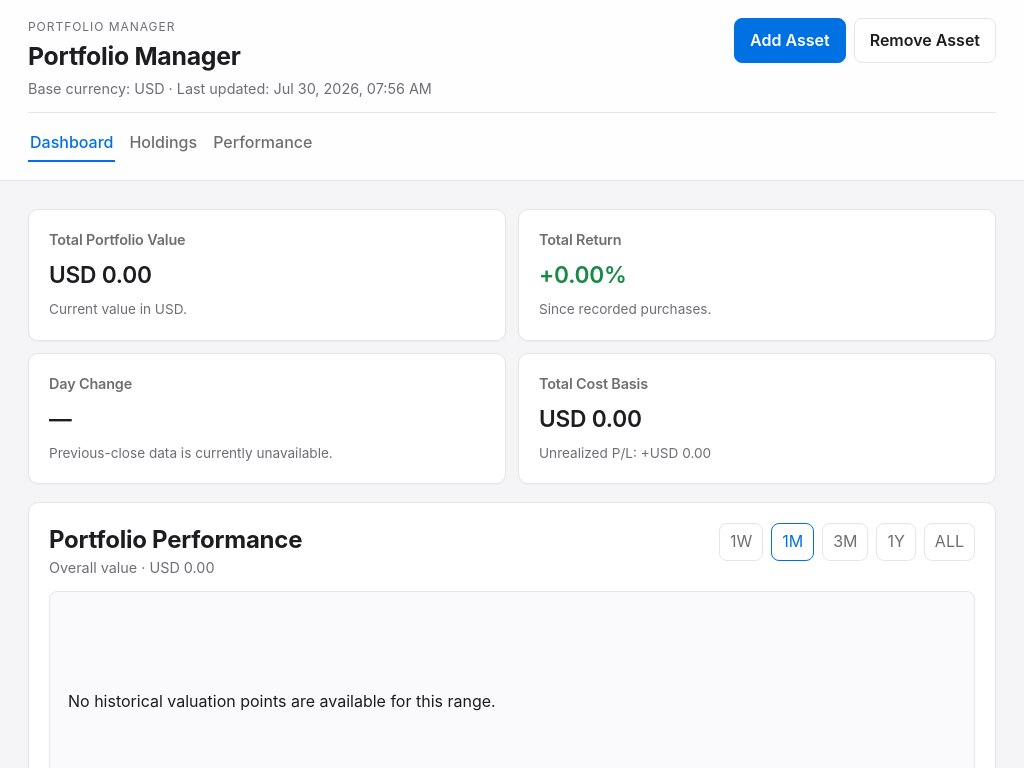
Test case: Portfolio Manager frontend › shows explicit USD references in summary and native-price labels in positions
Expected: the text "Base currency: USD · Last updated: Jul 30, 2026, 07:56 AM" is shown, [28, 79, 432, 100]
Click the link "Holdings". click: click(163, 142)
box: [130, 132, 197, 152]
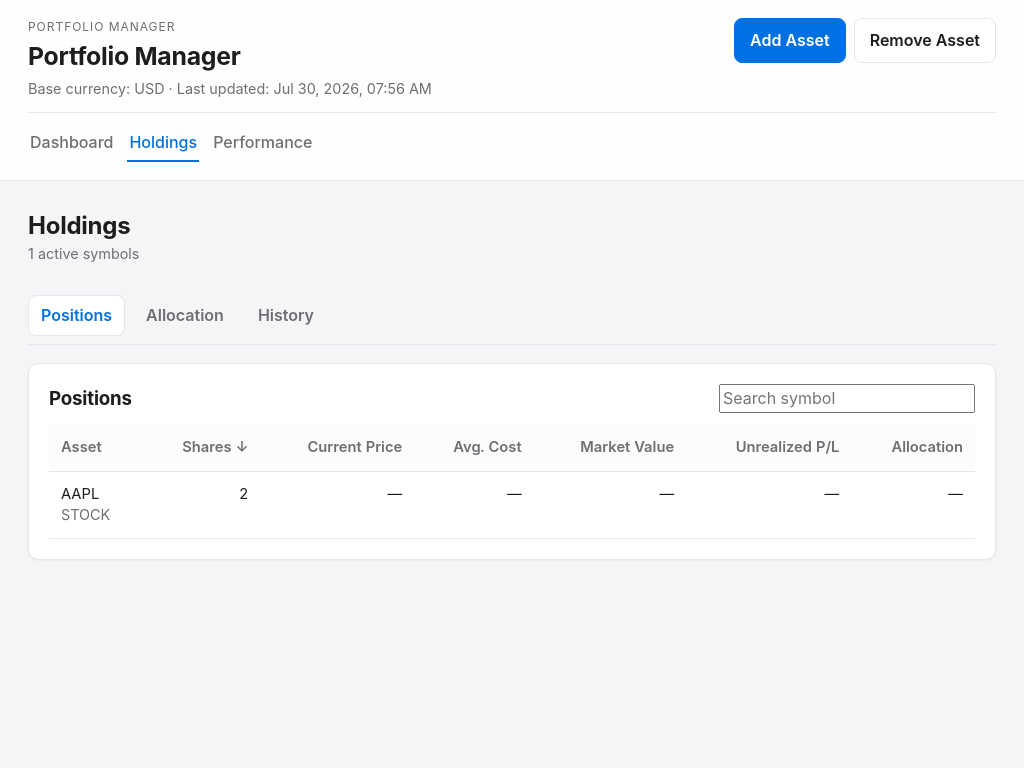
Result: the column heading "Current Price" is shown at [260, 426, 414, 471]
Result: the column heading "Avg. Cost" is shown at [414, 426, 534, 471]
